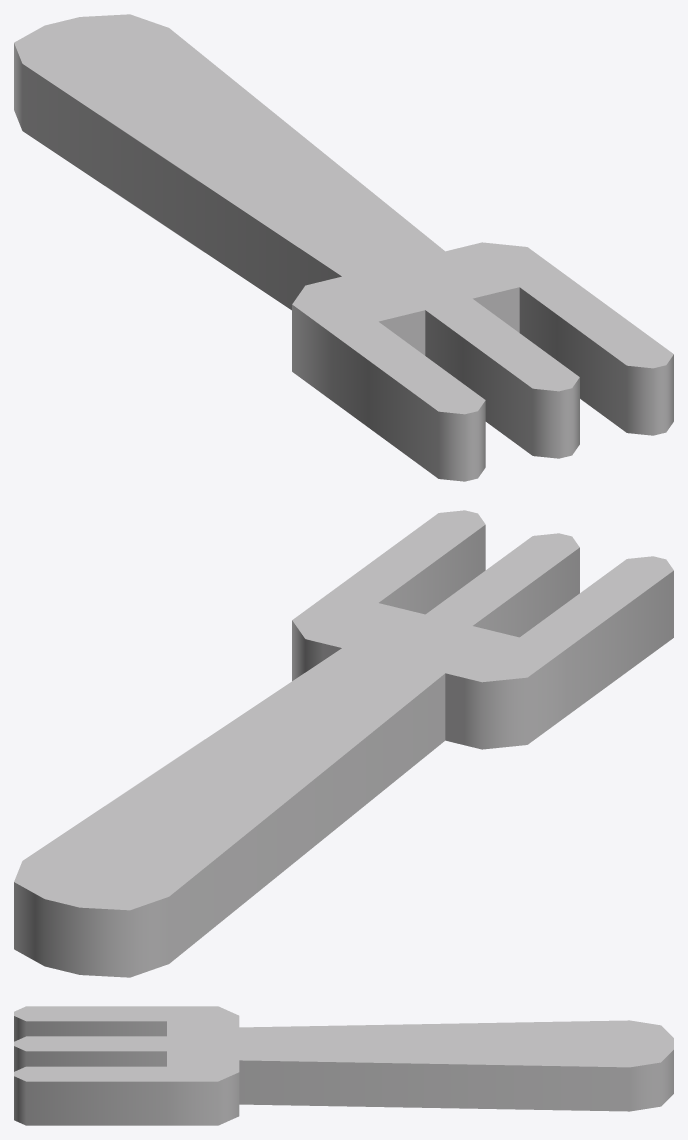
File: Fork.fbx
The picture shows the model from 3 angles, top to bottom: view 1: azimuth 30°, elevation 25°; view 2: azimuth 150°, elevation 25°; view 3: azimuth 270°, elevation 25°; orthographic projection. The views are drawn at different scales.
Parts seen in each view (by area): view 1: Fork; view 2: Fork; view 3: Fork.
Part boxes in pixels (x1,y1,x2,y2): Fork: (14,14,673,481); Fork: (14,510,673,977); Fork: (14,1006,673,1125).
Size of the model in its own units: 15.48 by 4.23 by 57.36.
